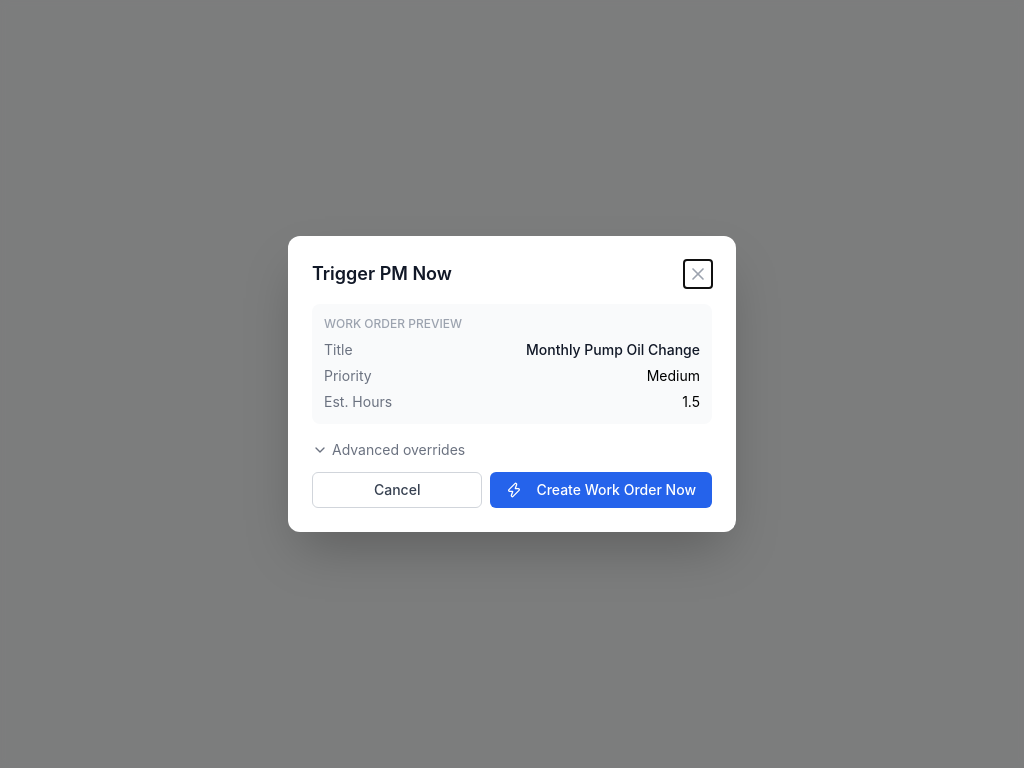
Test: TriggerPMModal › advanced overrides expand on click
Expected: the field labelled "override due date" is not shown
Click the button "Advanced overrides" at (389, 450), box [312,440,465,460]
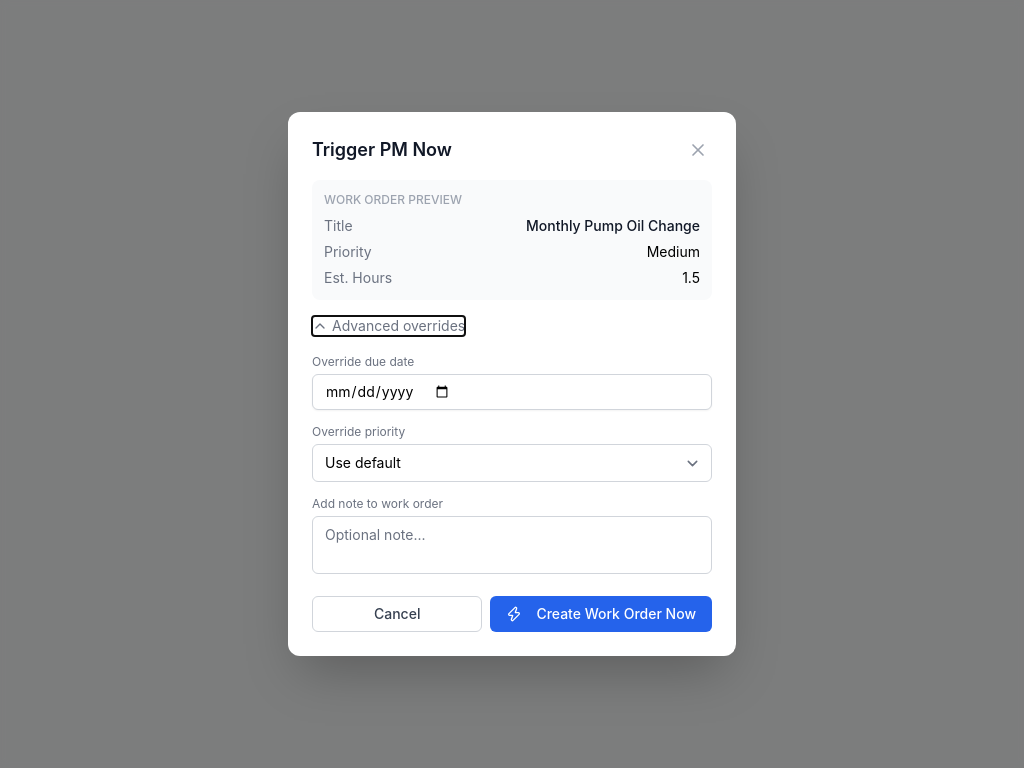
Now the text "Override due date" is shown, box [312,354,414,369]
